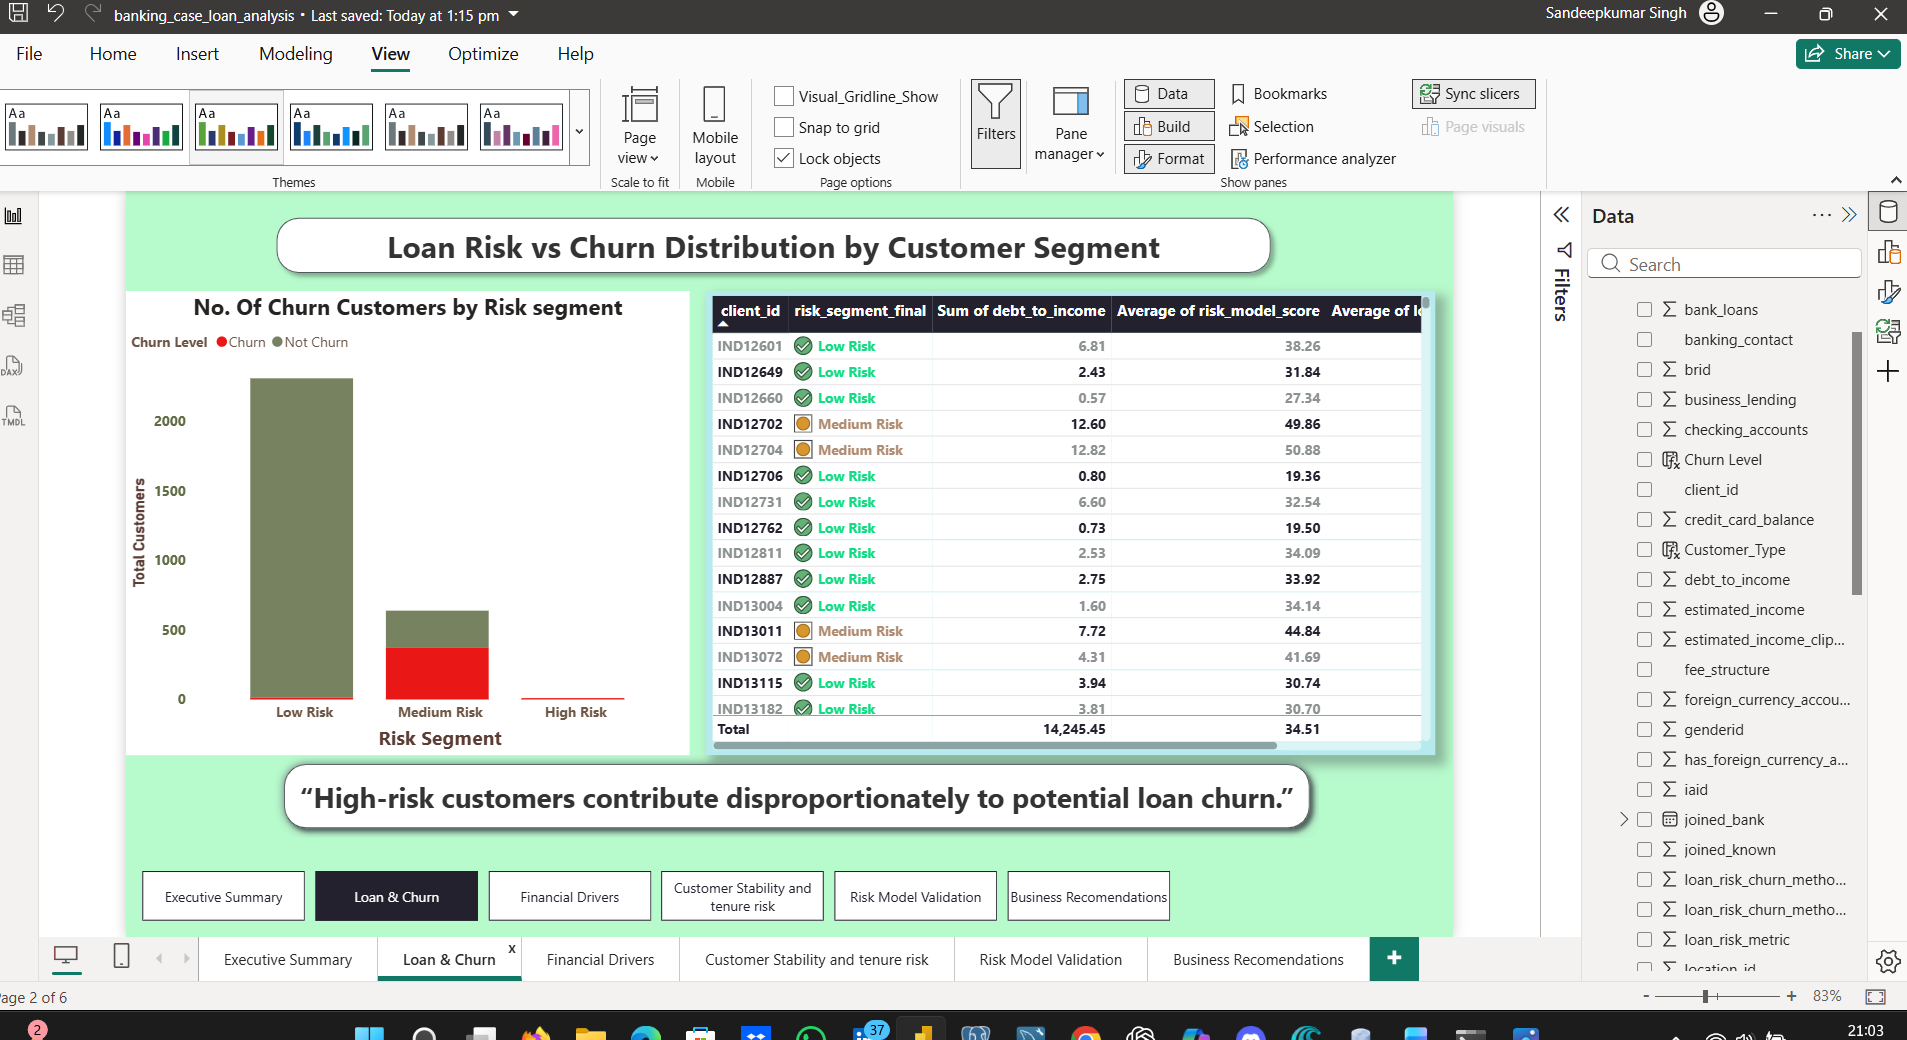

This screenshot's page, from the dashboard's own definition file:
{"tool":"powerbi","page":{"name":"Loan & Churn","canvas":[1280,720],"ordinal":1},"visuals":[{"type":"columnChart","title":"No. Of Churn Customers by Risk segment","fields":{"Category":["banking_case customers_risk_agg.risk_segment_final"],"Y":["Measures (2).Total Customers"],"Series":["banking_case customers_cleaned.Churn Level"]},"box":[0,96,544,448],"z":0},{"type":"shape","box":[136.7,17.5,977.5,71.3],"z":1000},{"type":"tableEx","fields":{"Values":["banking_case customers_cleaned.client_id","banking_case customers_risk_agg.risk_segment_final","Sum(banking_case customers_cleaned.debt_to_income)","Avg(banking_case customers_cleaned.risk_model_score)","Avg(banking_case customers_cleaned.loan_risk_churn_method1)"]},"box":[560,96,704,448],"z":2000},{"type":"shape","box":[144,544,1008,80],"z":3000},{"type":"pageNavigator","box":[16,656,992,48],"z":4000}]}

Visuals, with their boxes on the page's 1280x720 design canvas (x1, y1, x2, y2). These are canvas units, not pixel positions in the 1907x1040 screenshot, which may show the page scaled, cropped or inside an application window:
"No. Of Churn Customers by Risk segment" columnChart: {"left": 0, "top": 96, "right": 544, "bottom": 544}
shape: {"left": 137, "top": 18, "right": 1114, "bottom": 89}
tableEx - banking_case customers_cleaned.client_id x banking_case customers_risk_agg.risk_segment_final: {"left": 560, "top": 96, "right": 1264, "bottom": 544}
shape: {"left": 144, "top": 544, "right": 1152, "bottom": 624}
pageNavigator: {"left": 16, "top": 656, "right": 1008, "bottom": 704}
